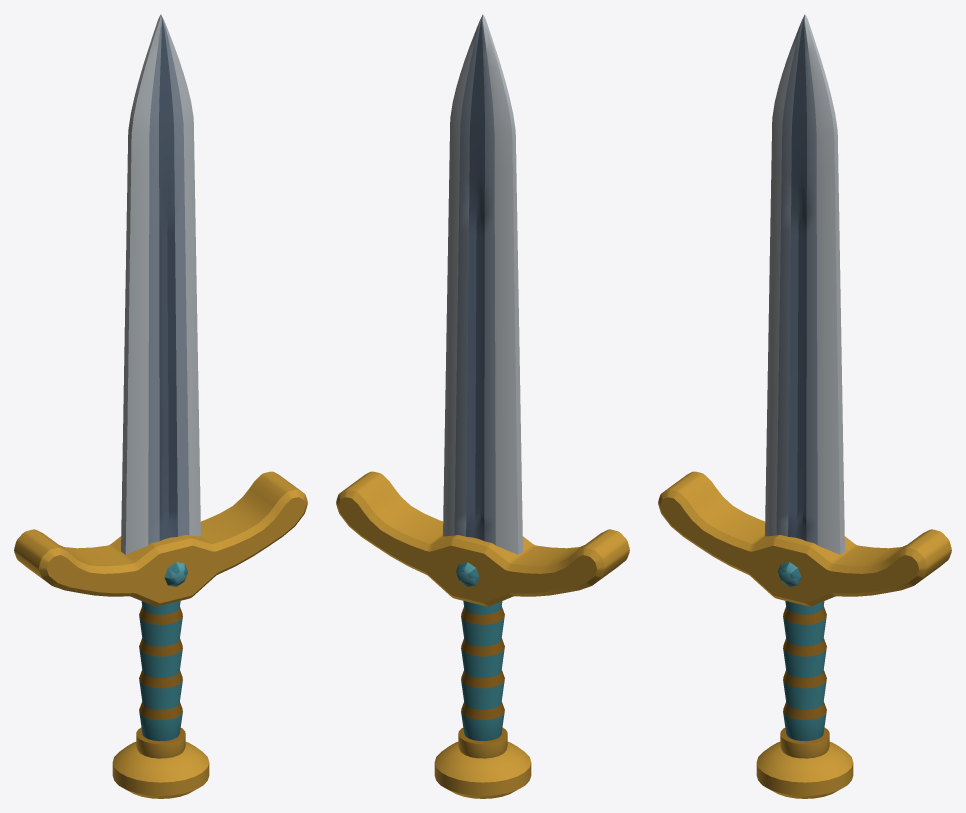
The model's file is Longsword_12.glb.
The picture shows the model from 3 angles, left to right: view 1: azimuth 30°, elevation 25°; view 2: azimuth 150°, elevation 25°; view 3: azimuth 330°, elevation 25°; orthographic projection.
Visible parts, largest first — view 1: Longsword_12; view 2: Longsword_12; view 3: Longsword_12.
Boxes of the visible parts, box(x1,y1,x2,y2) form: Longsword_12: box(14, 14, 307, 798); Longsword_12: box(336, 14, 629, 798); Longsword_12: box(658, 14, 951, 798).
Bounding box in the file's own units: 2.42 × 6.62 × 0.754.
